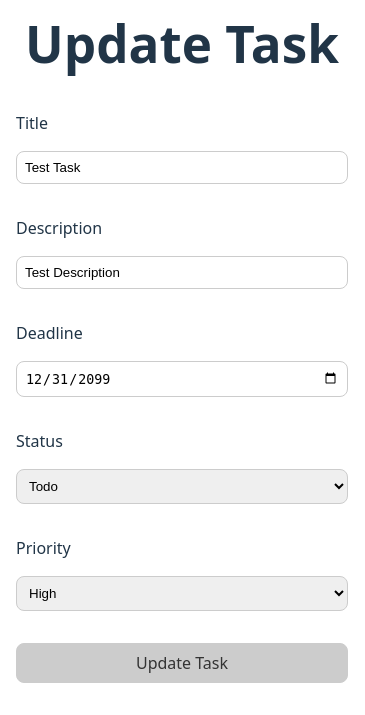
Test: UpdateTaskPage › should show error when deadline is in the past
Replace the text in the field with placeholder "Title" with "Updated Task" at coordinates (182, 168), box [16, 152, 348, 184]
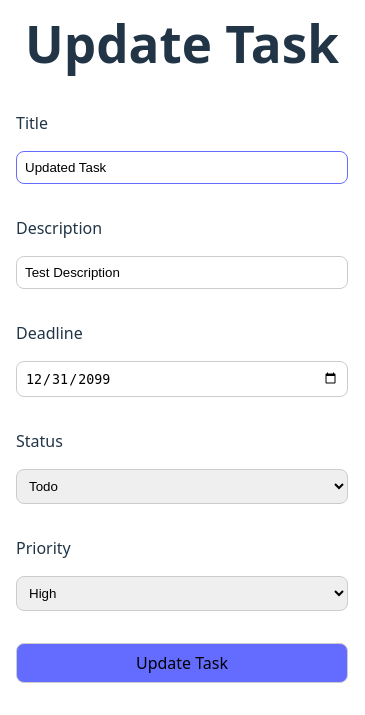
Type "2024-12-31" into the date field labelled "Deadline".
click(182, 379); type("2024-12-31")  # box [16, 362, 348, 397]
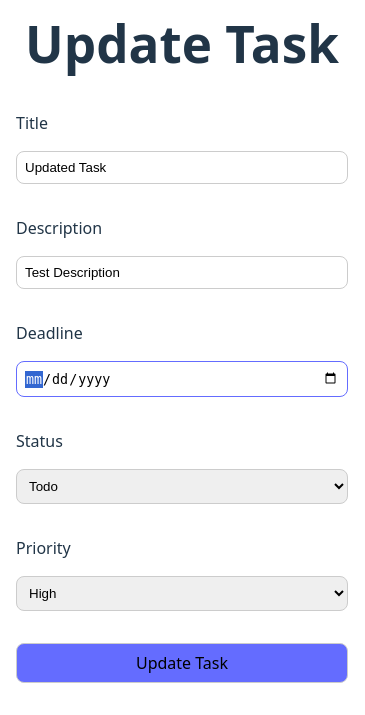
Press Tab
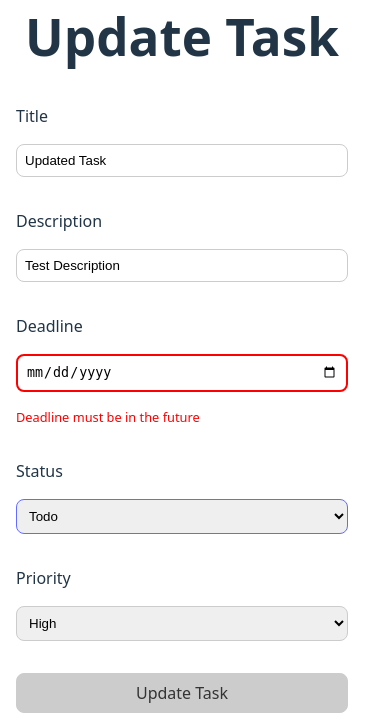
Now the button "Update Task" is disabled, box [16, 673, 348, 713]
Now the text "Deadline must be in the future" is shown, box [16, 408, 200, 426]
